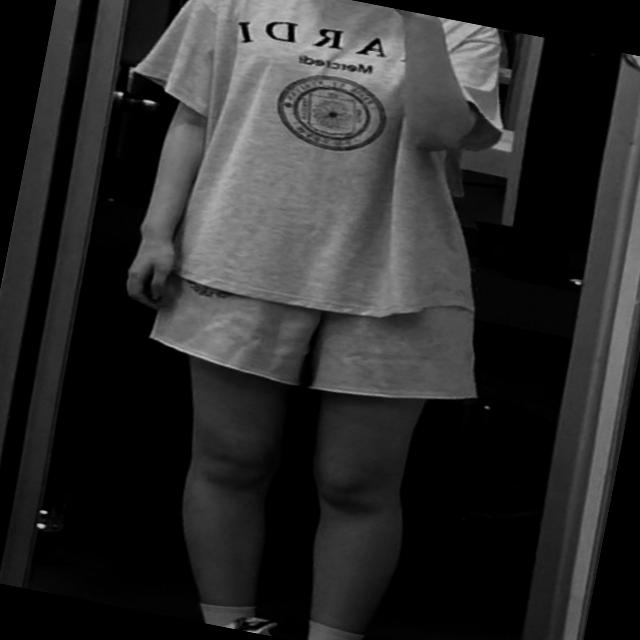shortpants: (142, 246, 503, 424)
shortsleeve: (93, 0, 527, 341)
